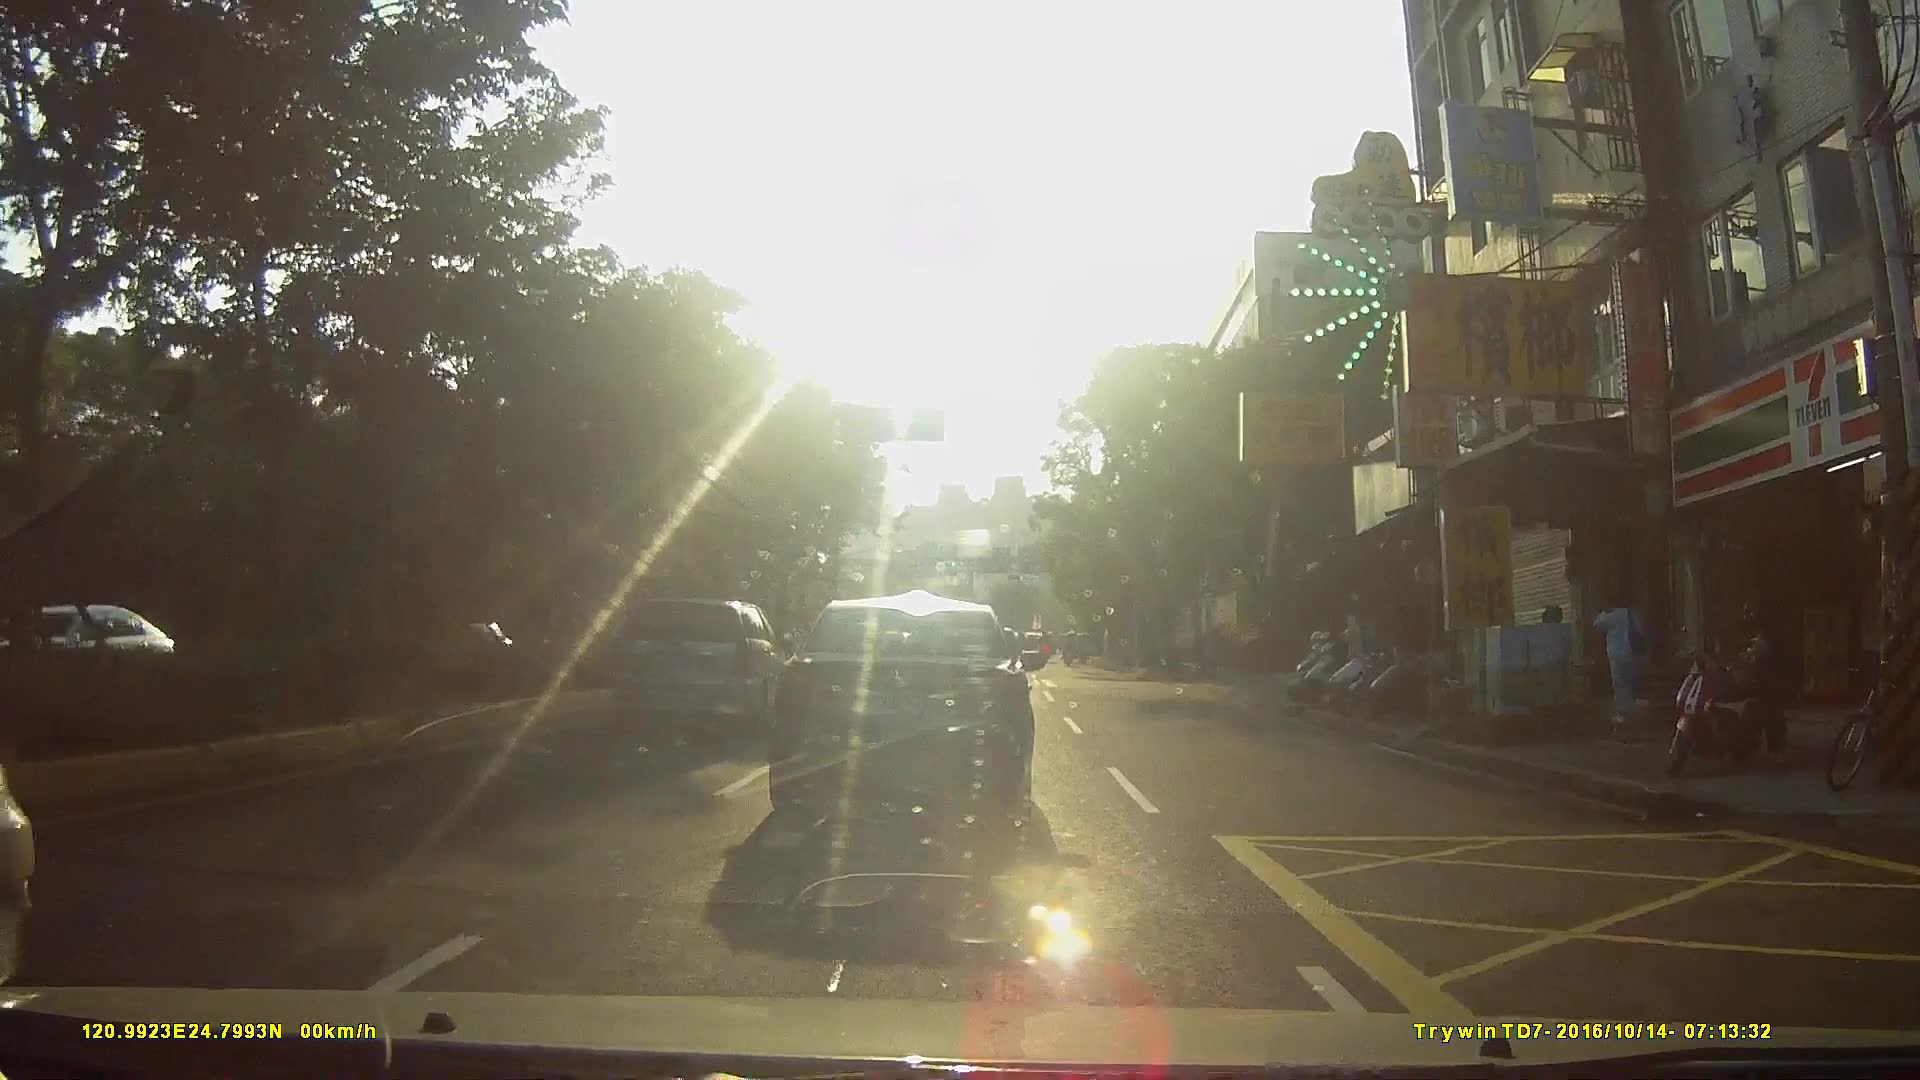pedestrian: (1593, 591, 1657, 726), (1740, 616, 1795, 774)
vehicle: (773, 599, 1055, 835), (615, 596, 795, 730), (12, 599, 179, 699)
